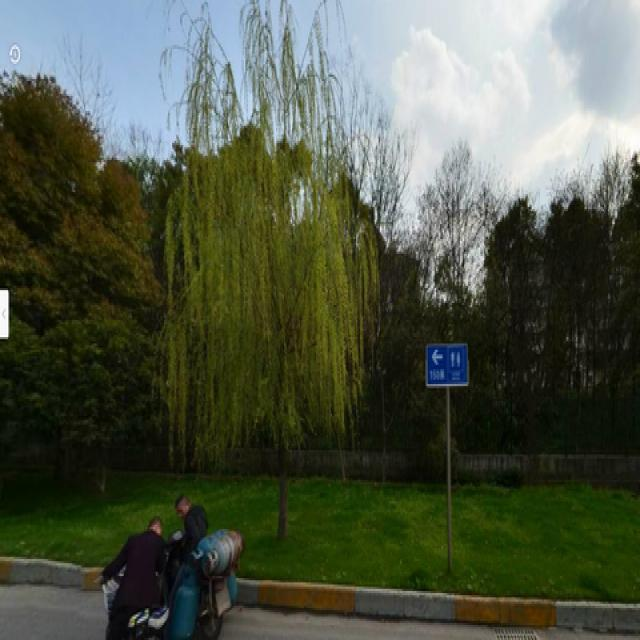plat: (171, 19, 365, 540)
